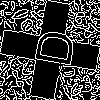D: (25, 25, 76, 69)
